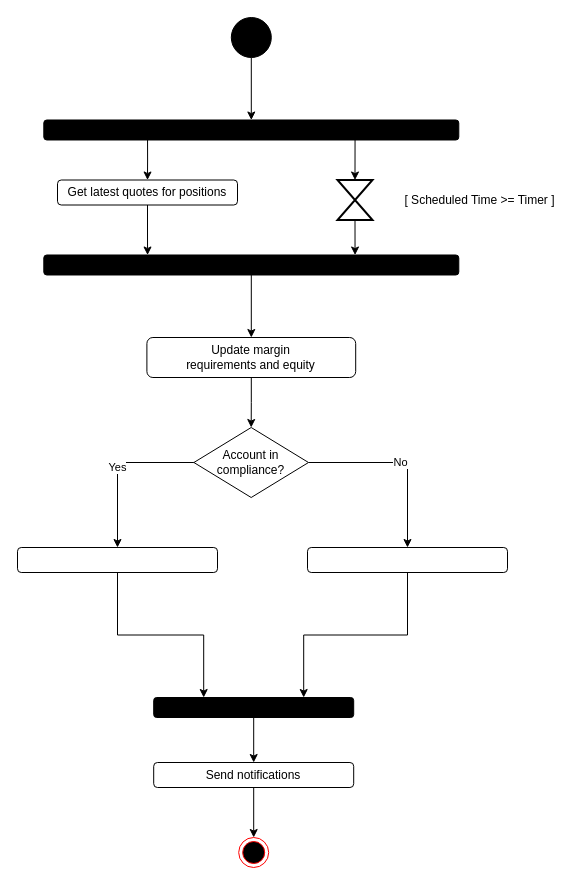
This 580x885 diagram has some shape labels left out. The centre of each missing label's shape, as x and y in pixels:
"Apply restrictions" belongs at pixel 407 559.
"Remove restrictions" belongs at pixel 117 559.
